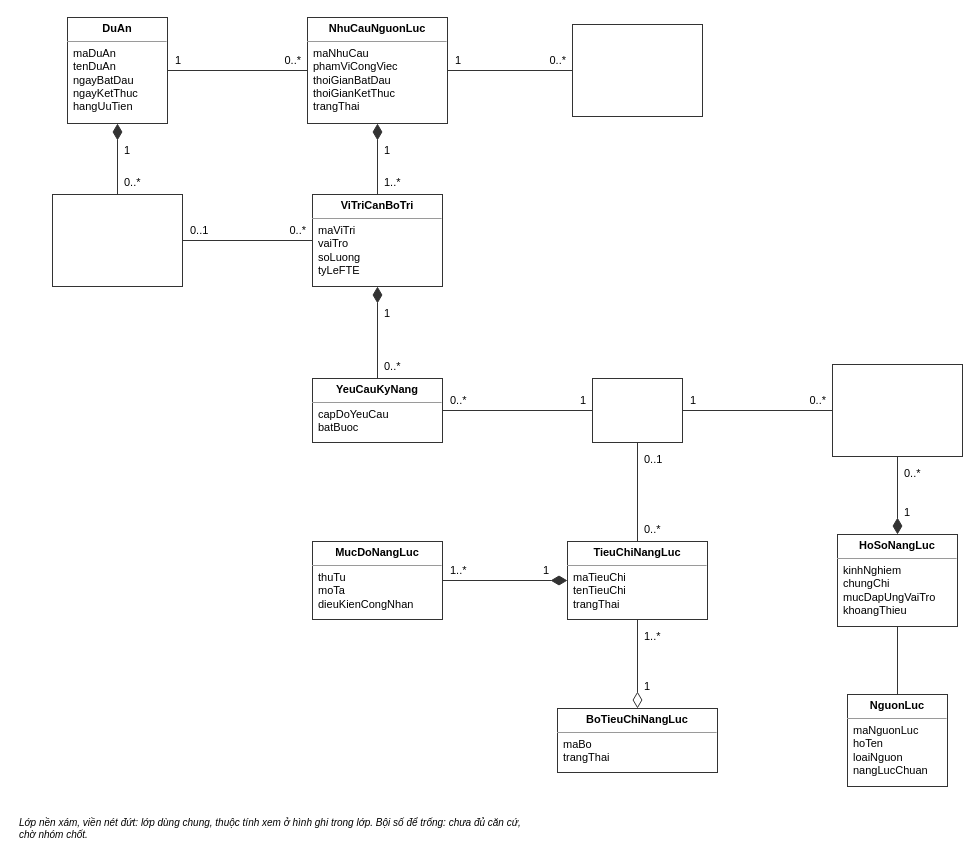
Image size: 980x859. Some labels were removed from this diagram. Here are the shapes that lost their labels. From the top down, the centre of each, then its label:
At [637,70]: "PhanHoiNhuCau maPhanHoi nguonPhanHoi noiDung thoiDiem".
At [117,240]: "GiaiDoanDuAn maGiaiDoan tenGiaiDoan ngayBatDau ngayKetThuc".
At [637,410]: "KyNang maKyNang tenKyNang".
At [897,410]: "NangLucKyNang mucThanhThao trangThaiXacNhan ngayDanhGia canCuXacNhan".
